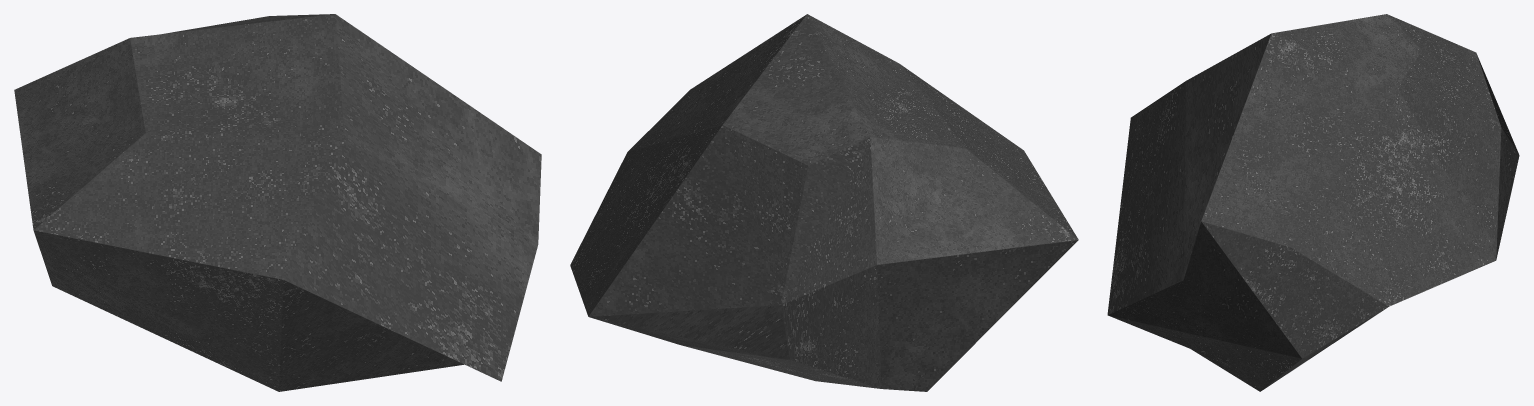
The model's file is Stone_4.glb.
The picture shows the model from 3 angles, left to right: view 1: azimuth 30°, elevation 25°; view 2: azimuth 150°, elevation 25°; view 3: azimuth 270°, elevation 25°; orthographic projection. The views are drawn at different scales.
Parts seen in each view (by area): view 1: Cube; view 2: Cube; view 3: Cube.
Part boxes in pixels (x1=…): Cube: x1=14, y1=14, x2=541, y2=391; Cube: x1=570, y1=14, x2=1078, y2=391; Cube: x1=1107, y1=14, x2=1519, y2=391.
Bounding box in the file's own units: 0.6891 × 0.486 × 0.6085.
Materials: 1 (1 with a texture image).
